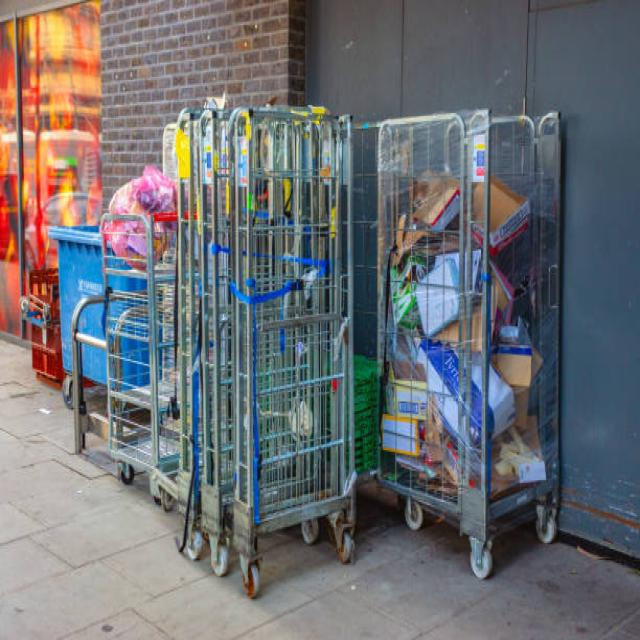cardboard: (380, 173, 514, 475)
metal: (95, 124, 348, 546)
